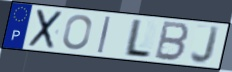B: (153, 20, 192, 63)
I: (96, 15, 113, 55)
J: (189, 24, 222, 66)
L: (121, 18, 153, 60)
O: (61, 14, 93, 51)
X: (27, 8, 65, 50)
